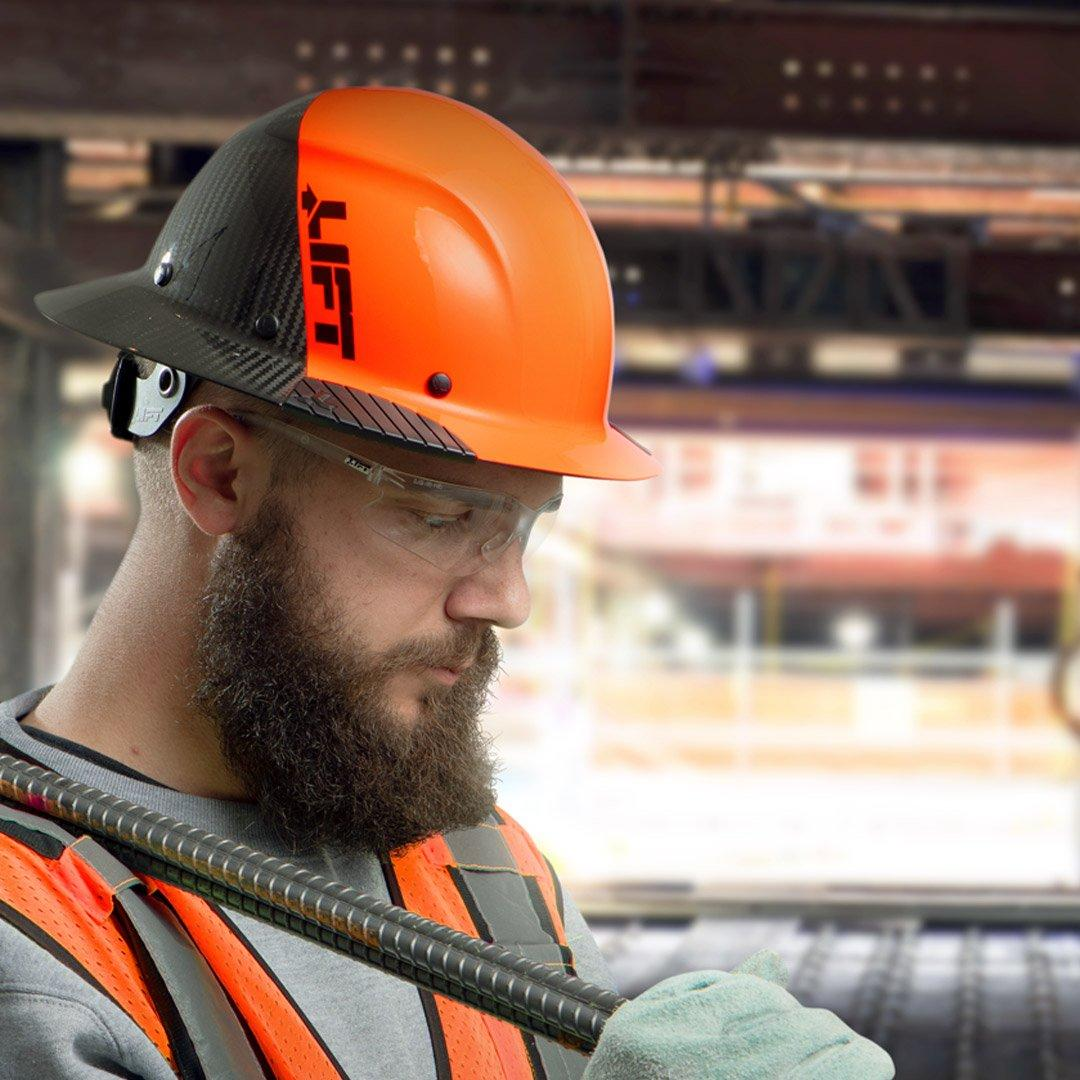helmet: (39, 83, 654, 489)
